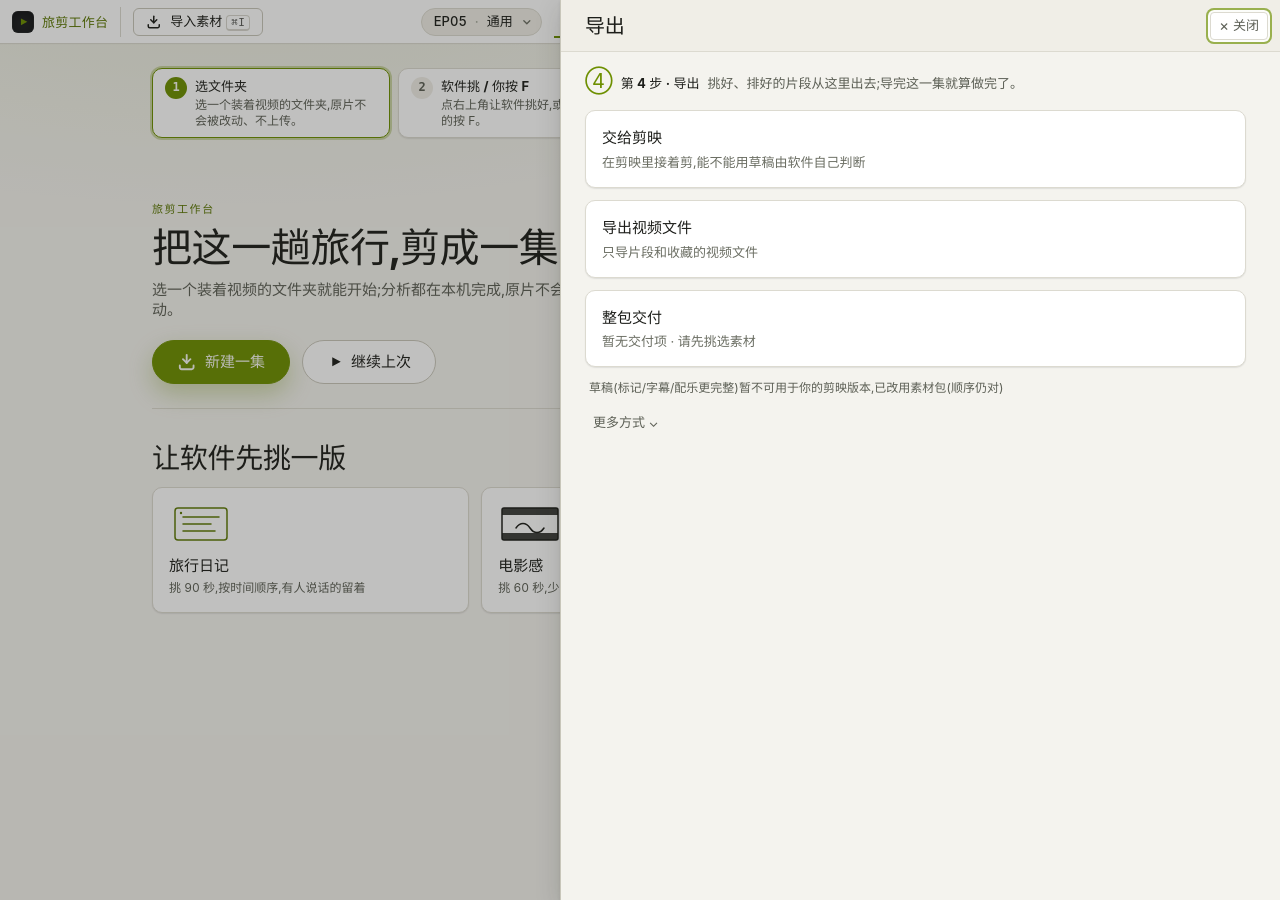
it: 交付抽屉 · 剪映素材包(R14 §9 B) › 镜头带上还没有片段:空态一句话说清现在怎么办,主按钮禁用
What coordinates should you click on to do the following:
click the button "更多方式 ⌄"
I would click on:
 (626, 422)
Its box is [585,409,667,435].
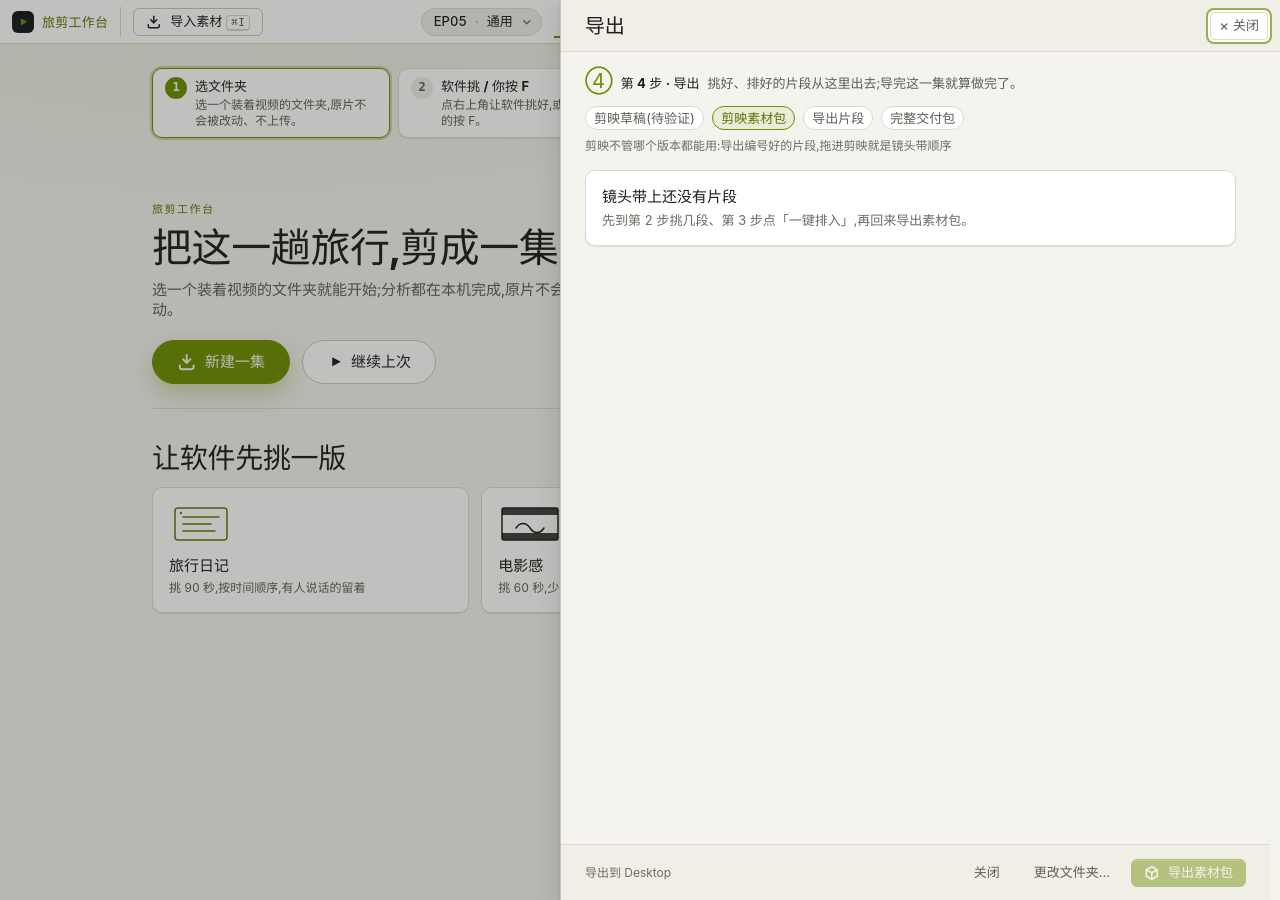
Check: the text "镜头带上还没有片段" is shown, box [602,187,737,206]
Check: the text "先到第 2 步挑几段、第 3 步点「一键排入」,再回来导出素材包。" is shown, box [602,212,974,228]
Check: the button with aria-label "导出剪映素材包到上次文件夹" is disabled, box [1131,858,1246,886]
